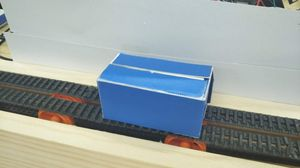box3: (96, 51, 211, 139)
